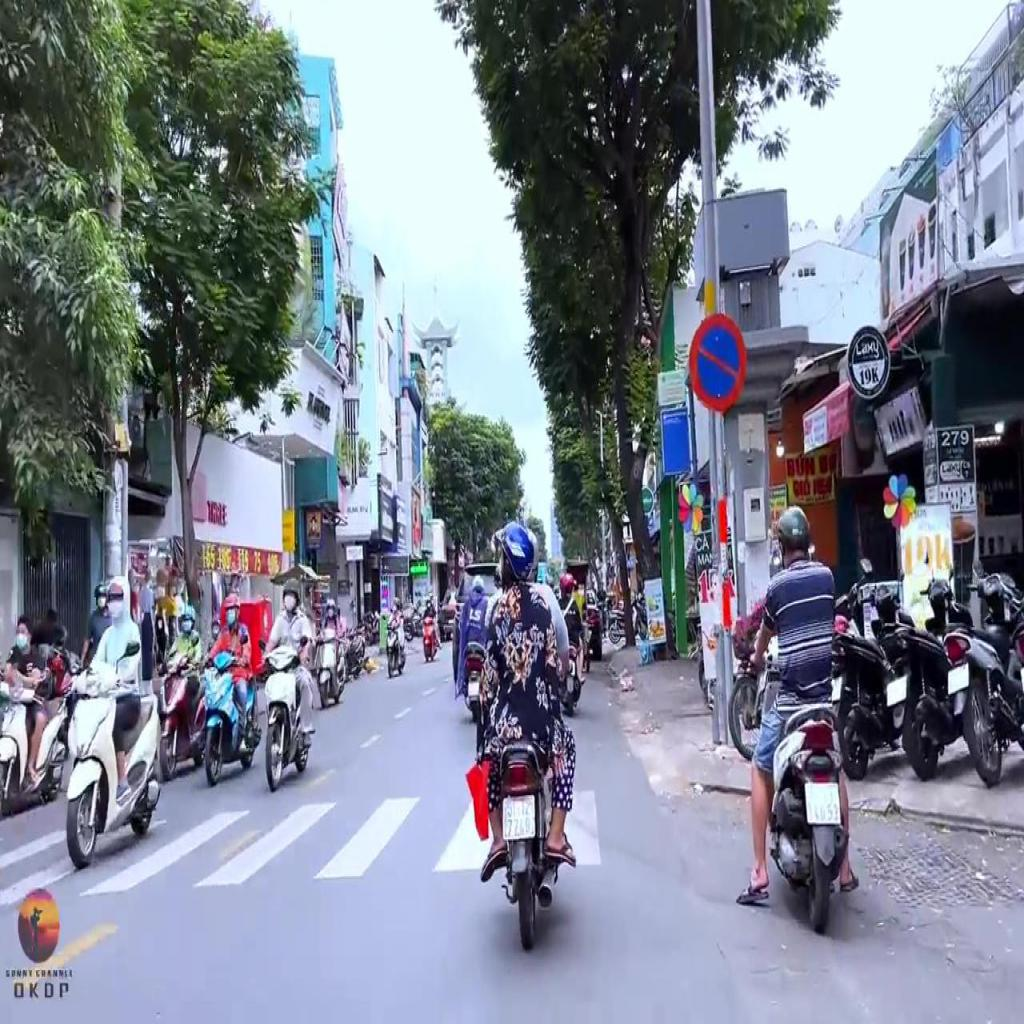cam_do_xe: (690, 313, 746, 412)
